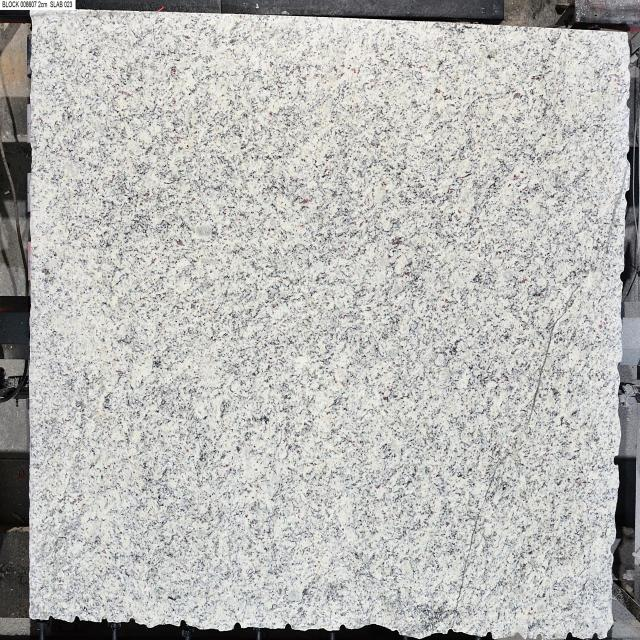chapa: (30, 12, 629, 636)
veio: (612, 453, 620, 469), (232, 620, 242, 631), (73, 614, 82, 625), (100, 616, 110, 625), (566, 630, 573, 640), (535, 632, 543, 640), (179, 619, 186, 628)
